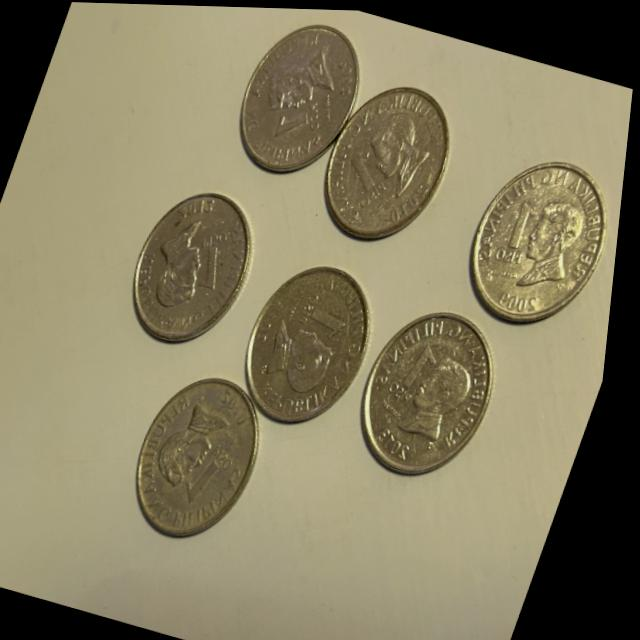1_Old_Front: (181, 424, 255, 523), (493, 186, 556, 274), (334, 141, 403, 212), (186, 217, 243, 299), (391, 332, 446, 407), (298, 289, 362, 345), (270, 86, 328, 146)
